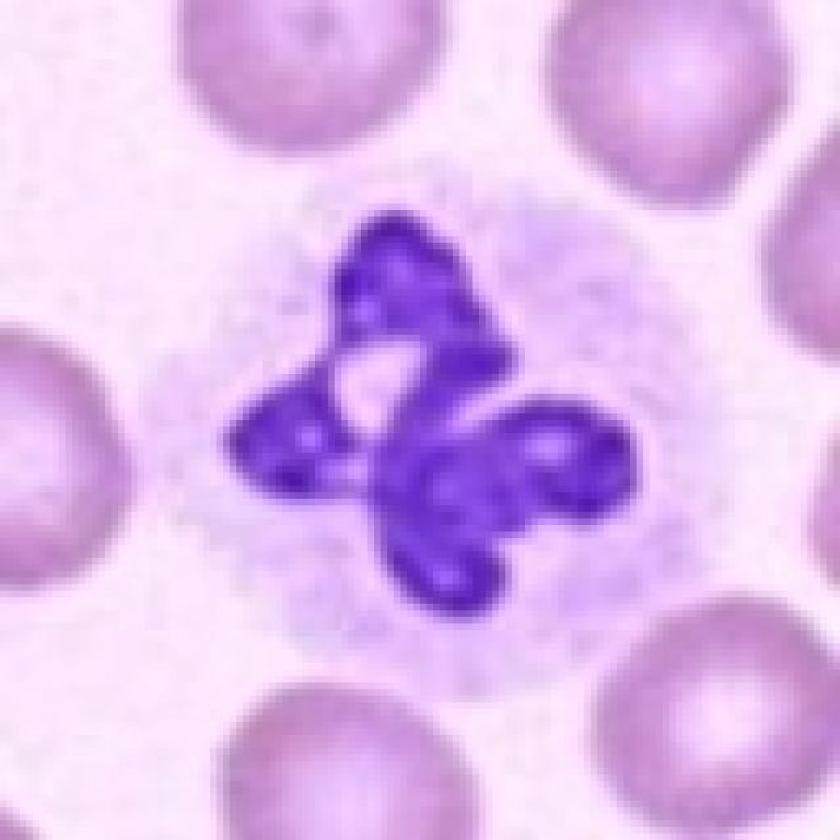neutrophil: (118, 135, 754, 679)
